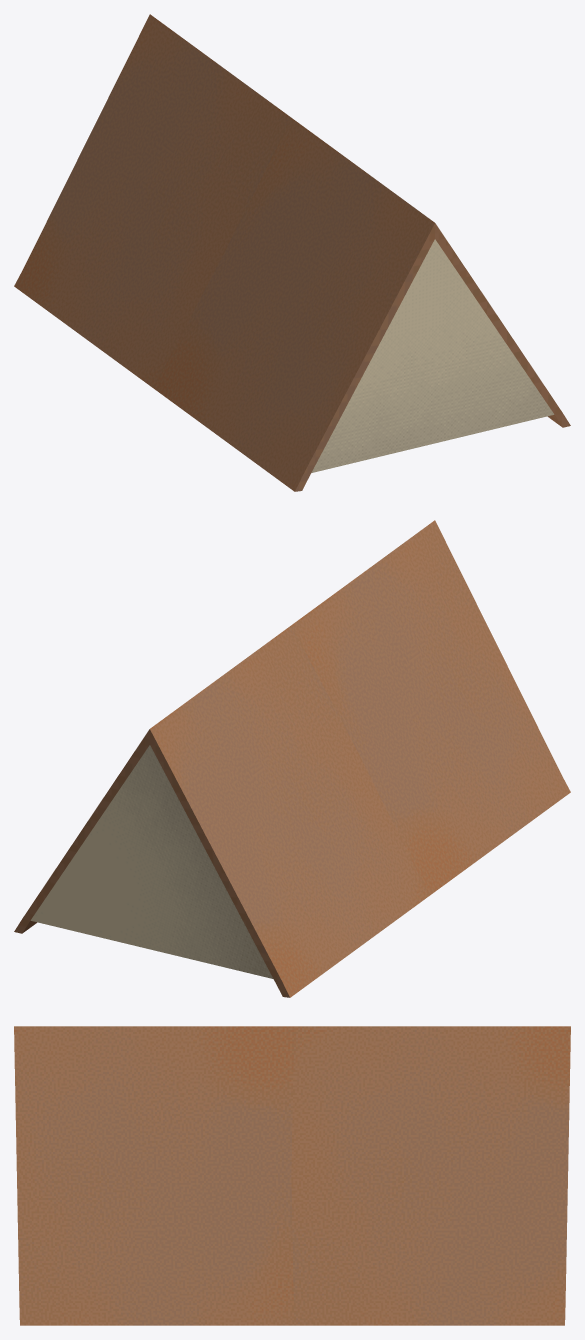
File: house_rectangle_roof.fbx
3 renders of one model, top to bottom at view 1: azimuth 30°, elevation 25°; view 2: azimuth 150°, elevation 25°; view 3: azimuth 270°, elevation 25°, orthographic. The views are drawn at different scales.
Parts seen in each view (by area): view 1: rectangle_roof; view 2: rectangle_roof; view 3: rectangle_roof.
Part boxes in pixels (<box>): rectangle_roof: <box>14,14,570,491</box>; rectangle_roof: <box>14,520,570,997</box>; rectangle_roof: <box>14,1026,570,1325</box>.
Size of the model in its own units: 17.55 by 14.47 by 31.3.
Materials: 2 (2 with a texture image).
